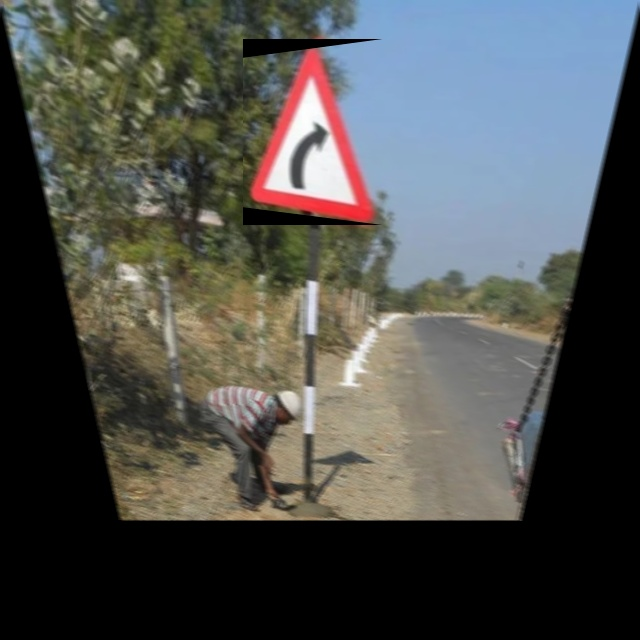Right_Hand_Curve: (243, 39, 383, 225)
